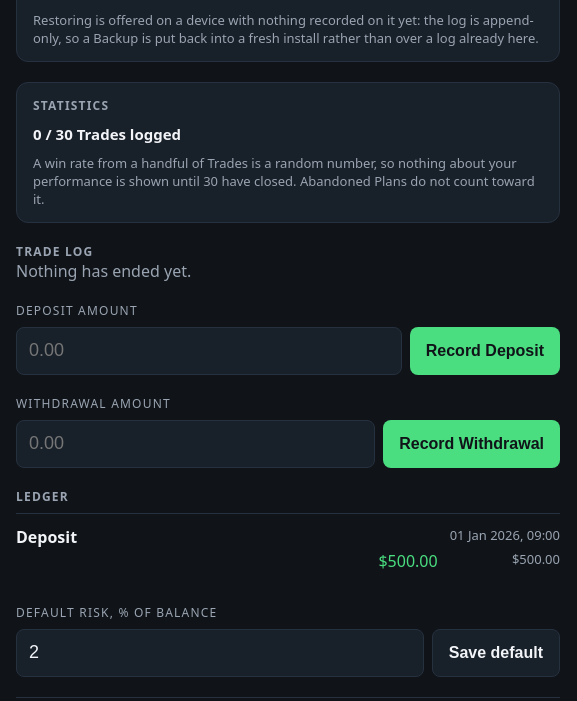
Test: the account screen › adds a Deposit to the Balance already on record
(page scrolled)
Type "250" into the number field labelled "Deposit amount" at (209, 351), box [16,327,402,375]
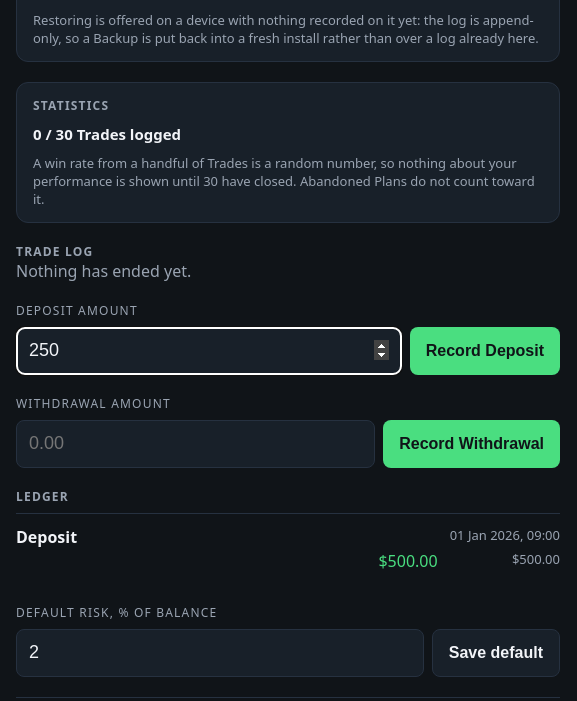
Click the button "Record Deposit" at (485, 351), box [410,327,560,375]
(page scrolled)
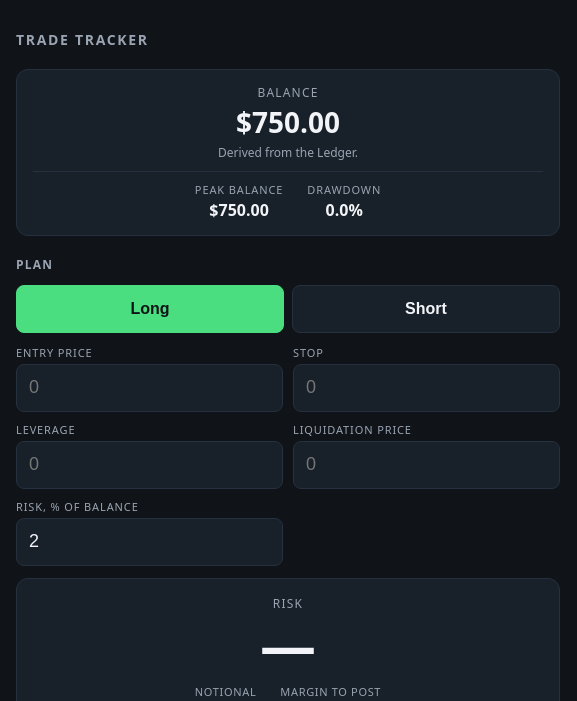
Now the element labelled "Balance" shows "$750.00", box [236,103,340,141]
